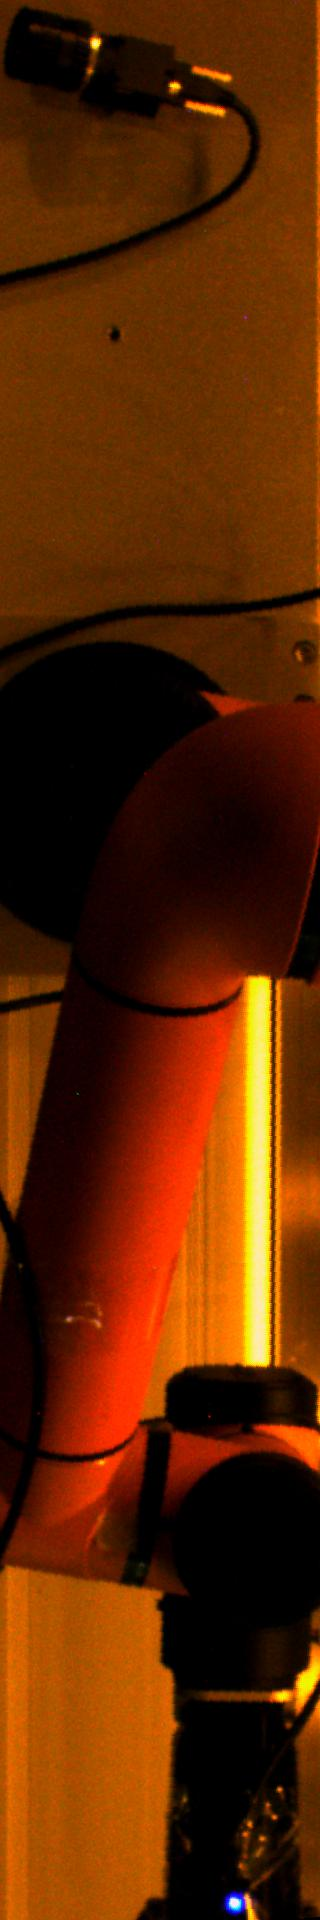keyPoint_1: (219, 1887, 250, 1918)
keyPoint_2: (99, 321, 129, 351)
